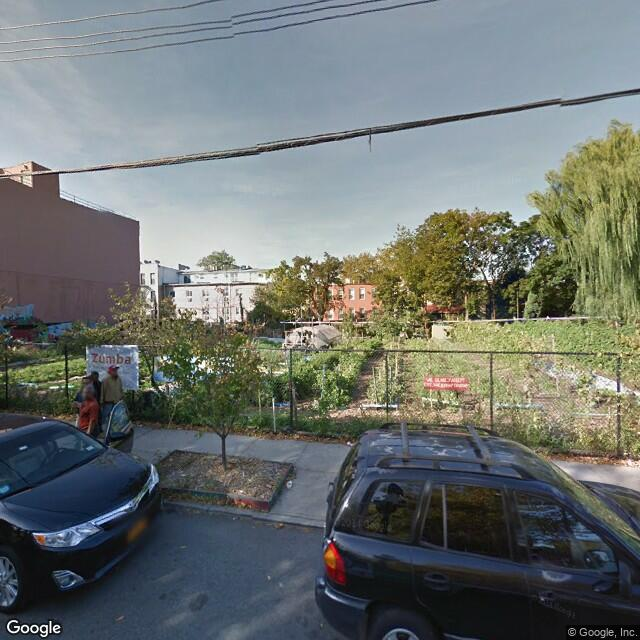litter: (287, 480, 293, 488), (348, 441, 354, 444)
